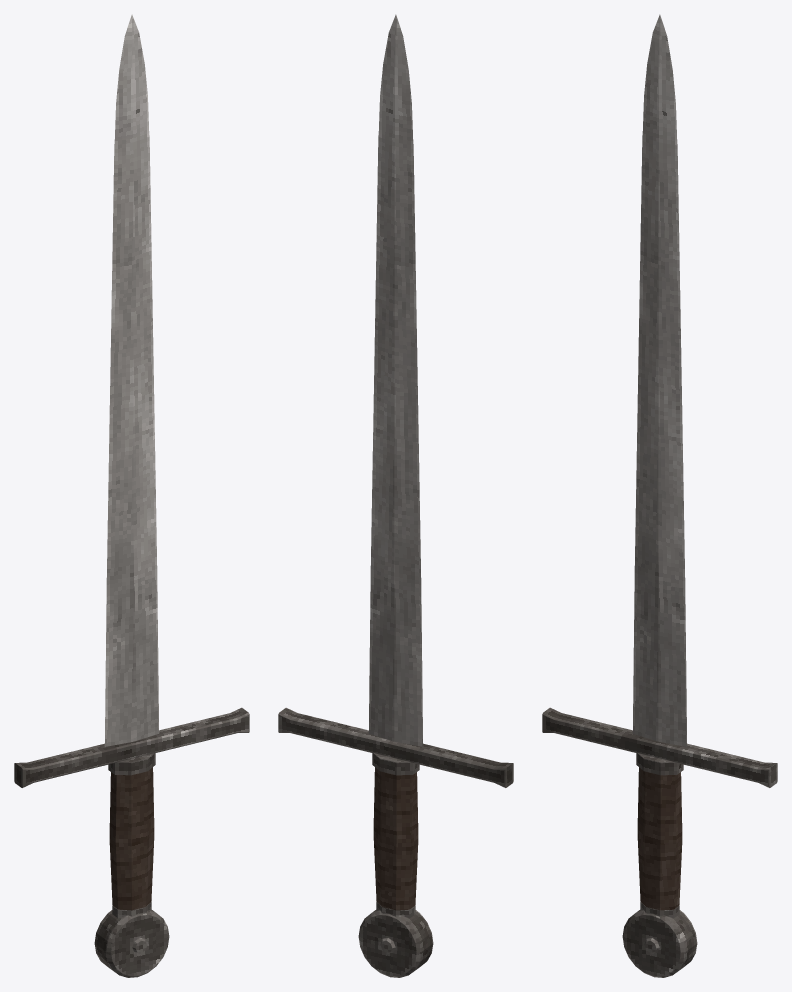
The model's file is arming-sword.glb.
The picture shows the model from 3 angles, left to right: view 1: azimuth 30°, elevation 25°; view 2: azimuth 150°, elevation 25°; view 3: azimuth 330°, elevation 25°; orthographic projection.
Visible parts, largest first — view 1: pixel-fantasy-equipment-arming-sword; view 2: pixel-fantasy-equipment-arming-sword; view 3: pixel-fantasy-equipment-arming-sword.
Part boxes in pixels (left/top/right/bottom): pixel-fantasy-equipment-arming-sword: left=14, top=14, right=249, bottom=977; pixel-fantasy-equipment-arming-sword: left=278, top=14, right=513, bottom=977; pixel-fantasy-equipment-arming-sword: left=542, top=14, right=777, bottom=977.
Bounding box in the file's own units: 0.2352 × 0.95 × 0.034.
3 materials, 3 textured.
